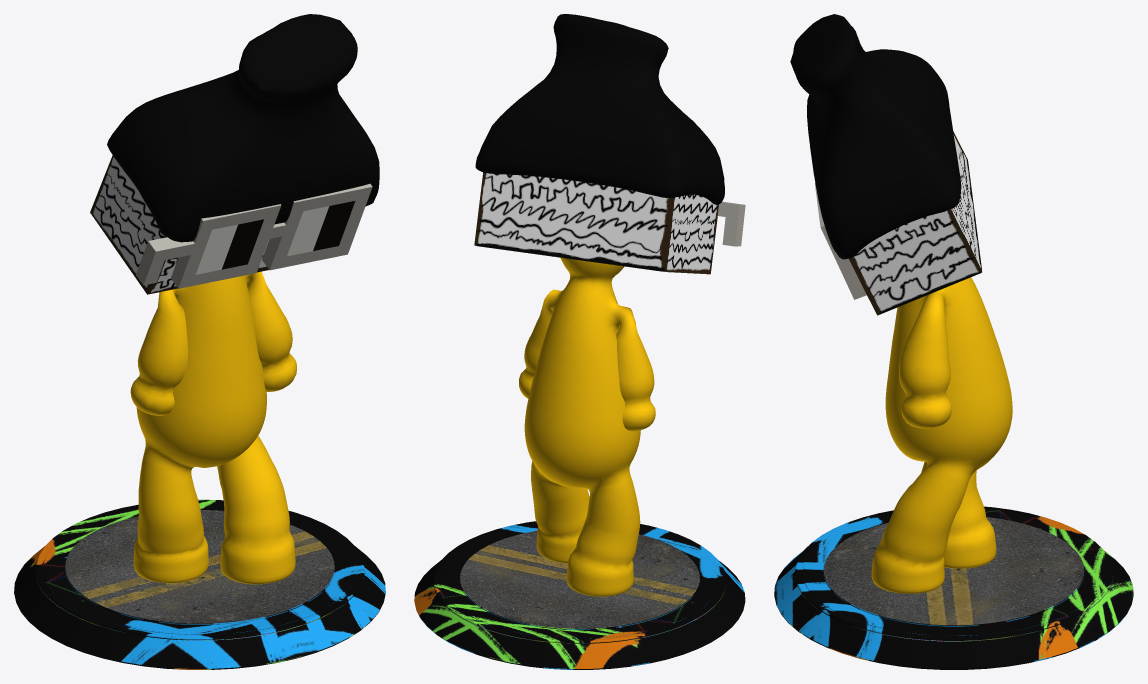
3 renders of one model, left to right at view 1: azimuth 30°, elevation 25°; view 2: azimuth 150°, elevation 25°; view 3: azimuth 270°, elevation 25°, orthographic. The views are drawn at different scales.
Visible parts, largest first — view 1: BBody; view 2: BBody; view 3: BBody.
Boxes of the visible parts, <box> form: BBody: <box>14,14,385,669</box>; BBody: <box>414,14,745,669</box>; BBody: <box>774,14,1133,669</box>.
Bounding box in the file's own units: 1.45 × 2.59 × 1.45.
6 materials, 4 textured.
